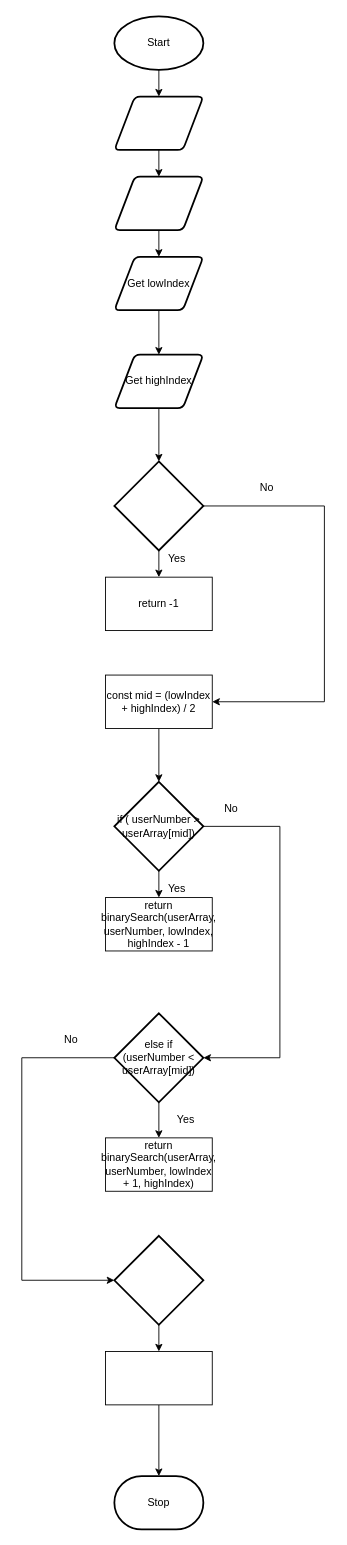
Some shapes in this 347 by 1545 pixel diagram are drawn without their labels. The shapes that lost their labels are listed below. From the top down, each one's centre as x and y in pixels, then its label:
At pixel 158 122: "Get userArray".
At pixel 158 203: "Get userNumber".
At pixel 158 505: "if (lowIndex > highIndex)".
At pixel 158 1279: "else".
At pixel 158 1378: "return mid".
